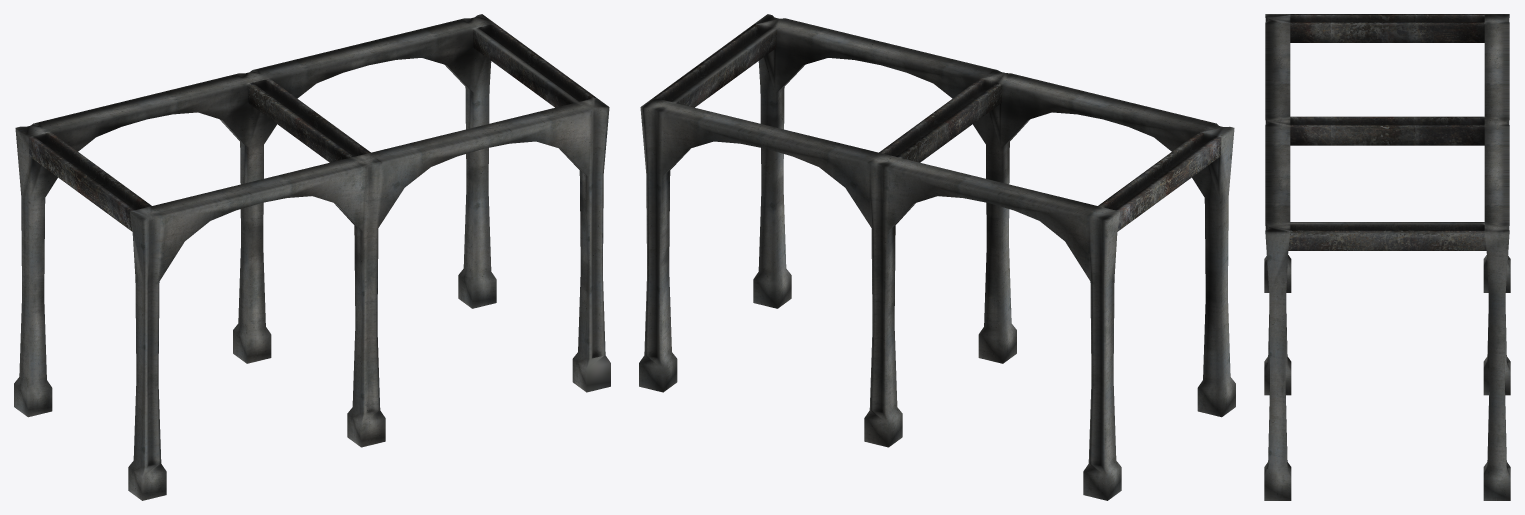
The model's file is Rail Raise.fbx.
The picture shows the model from 3 angles, left to right: view 1: azimuth 30°, elevation 25°; view 2: azimuth 150°, elevation 25°; view 3: azimuth 270°, elevation 25°; orthographic projection. The views are drawn at different scales.
Visible parts, largest first — view 1: Cube_007; view 2: Cube_007; view 3: Cube_007.
Part boxes in pixels (x1,y1,x2,y2): Cube_007: (14,14,610,500); Cube_007: (639,14,1235,500); Cube_007: (1264,14,1510,500).
Size of the model in its own units: 14.32 by 8.16 by 6.79.
